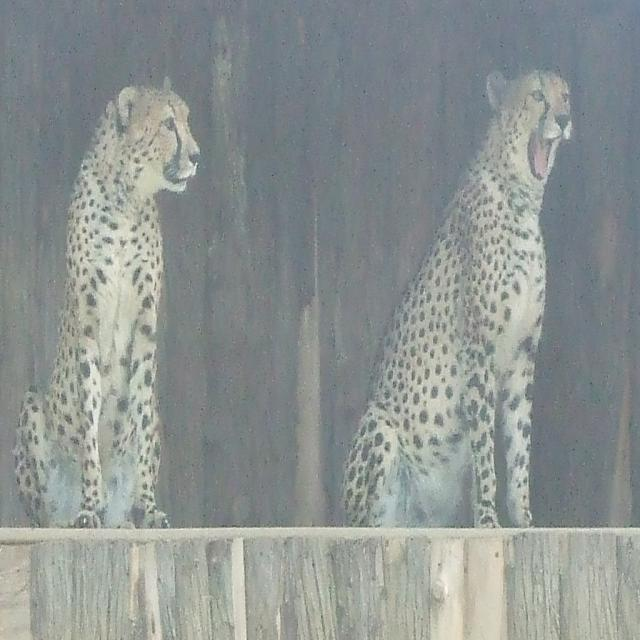Cheetah: (337, 69, 573, 528), (13, 74, 201, 528)
